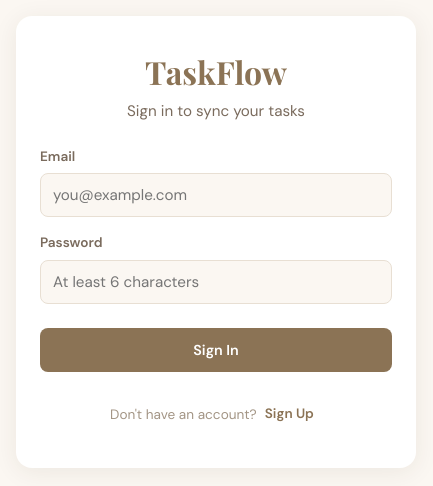
Auth component › switches to sign-up mode
Click the button "Sign Up" at [289, 414], box [257,392,322,436]
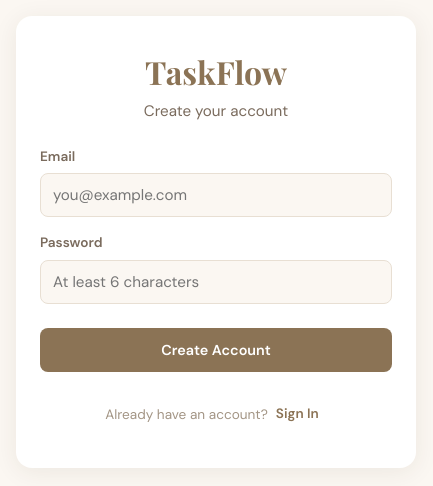
Check: the text "Create your account" is shown, box [144,101,288,121]
Check: the button "Create Account" is shown, box [40,328,392,372]
